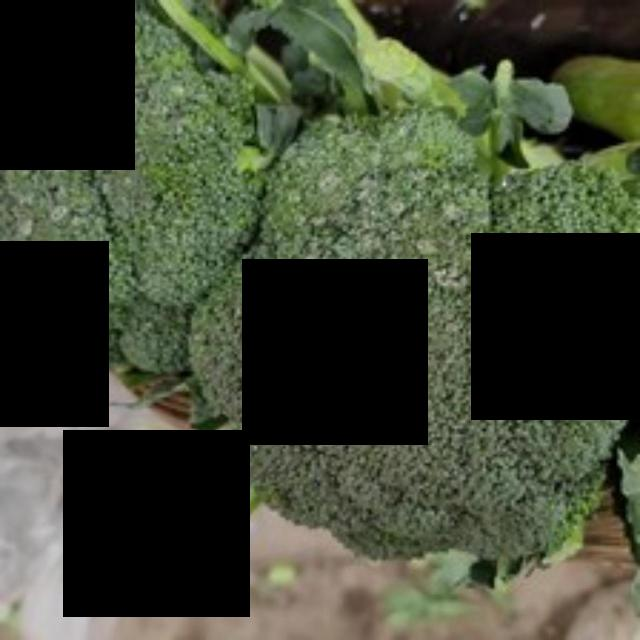broccoli: (176, 95, 640, 546)
